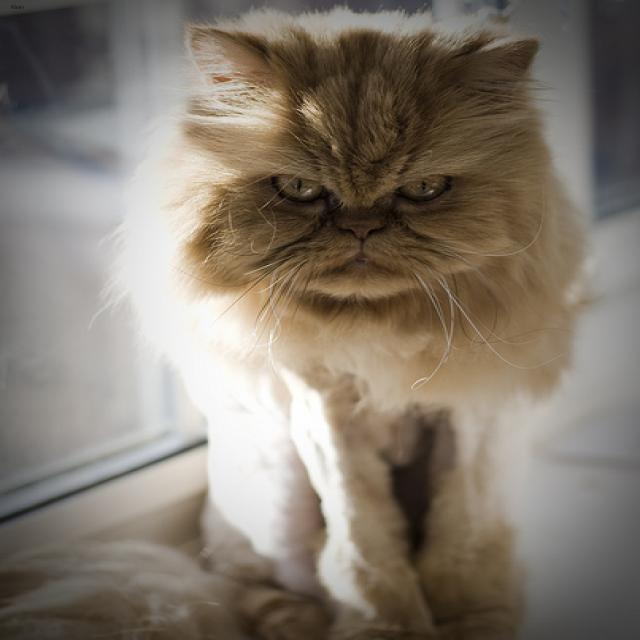cat: (182, 27, 534, 294)
